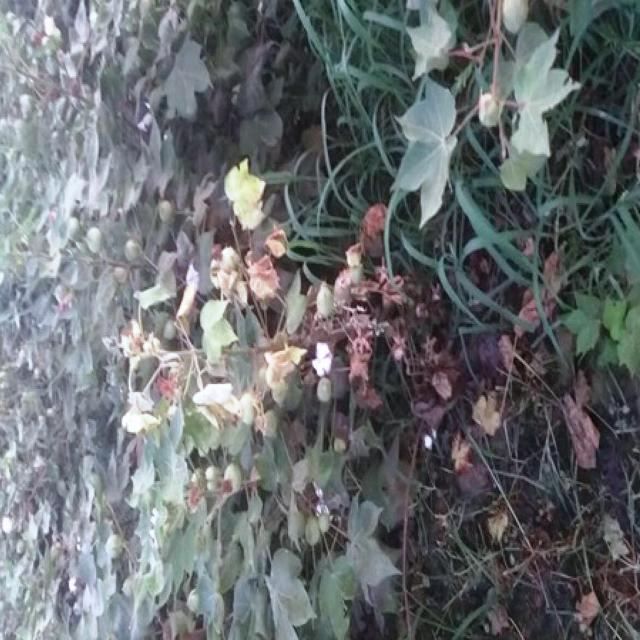Fusarium Wilt: (65, 125, 574, 617)
